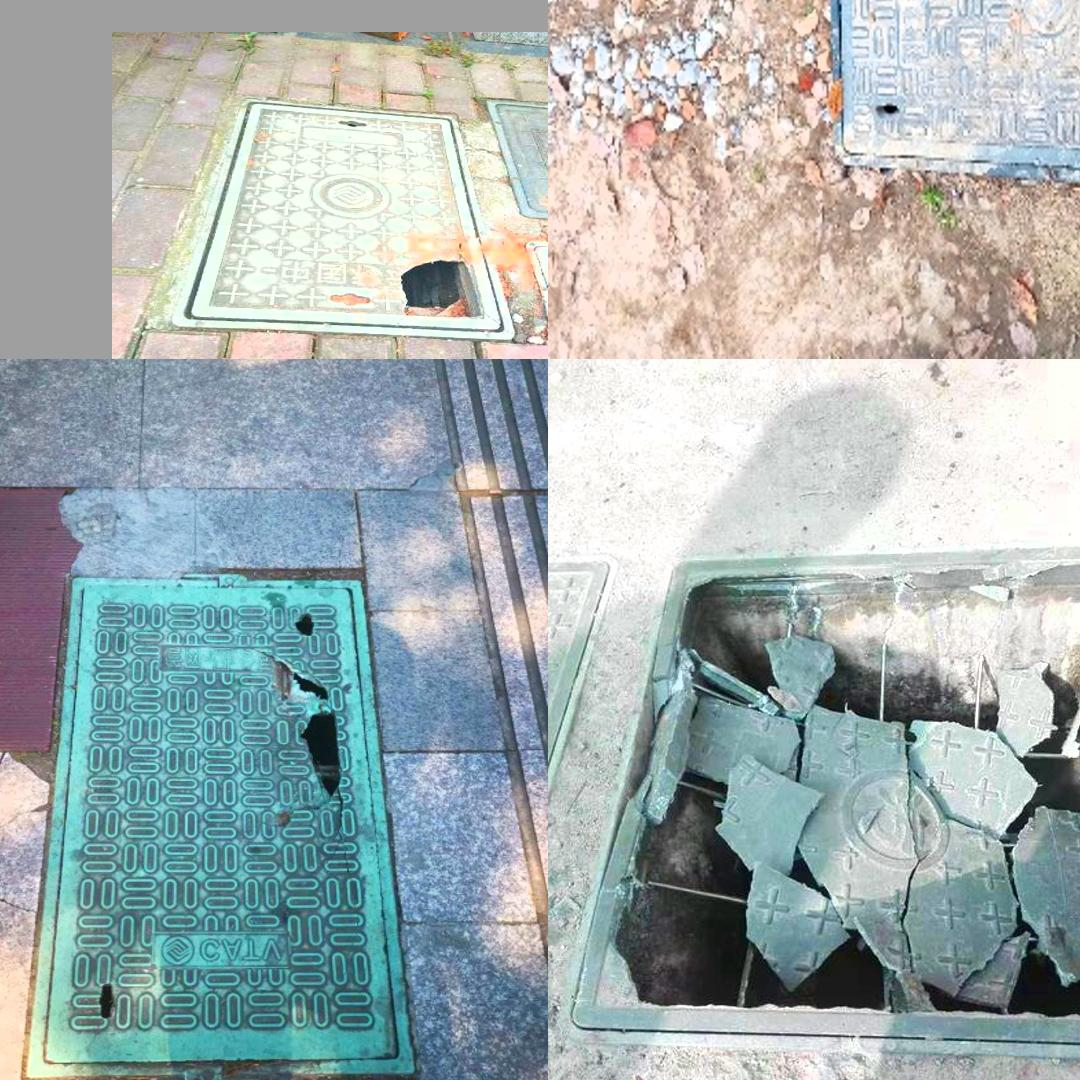broke: (598, 551, 1080, 1066), (27, 574, 417, 1078), (168, 97, 515, 340), (826, 0, 1080, 200)
